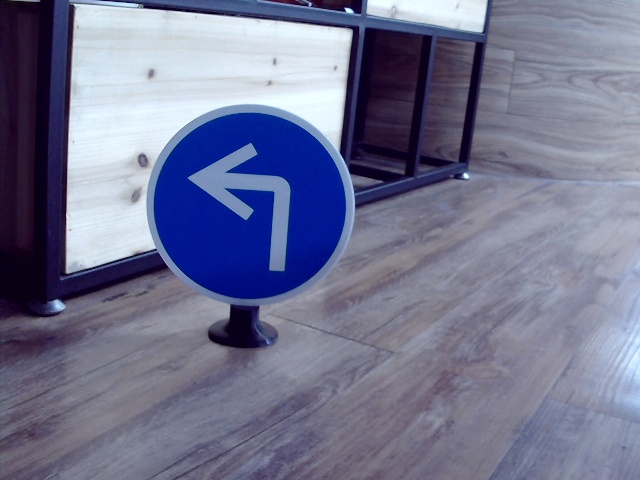turn_left: (191, 141, 303, 274)
